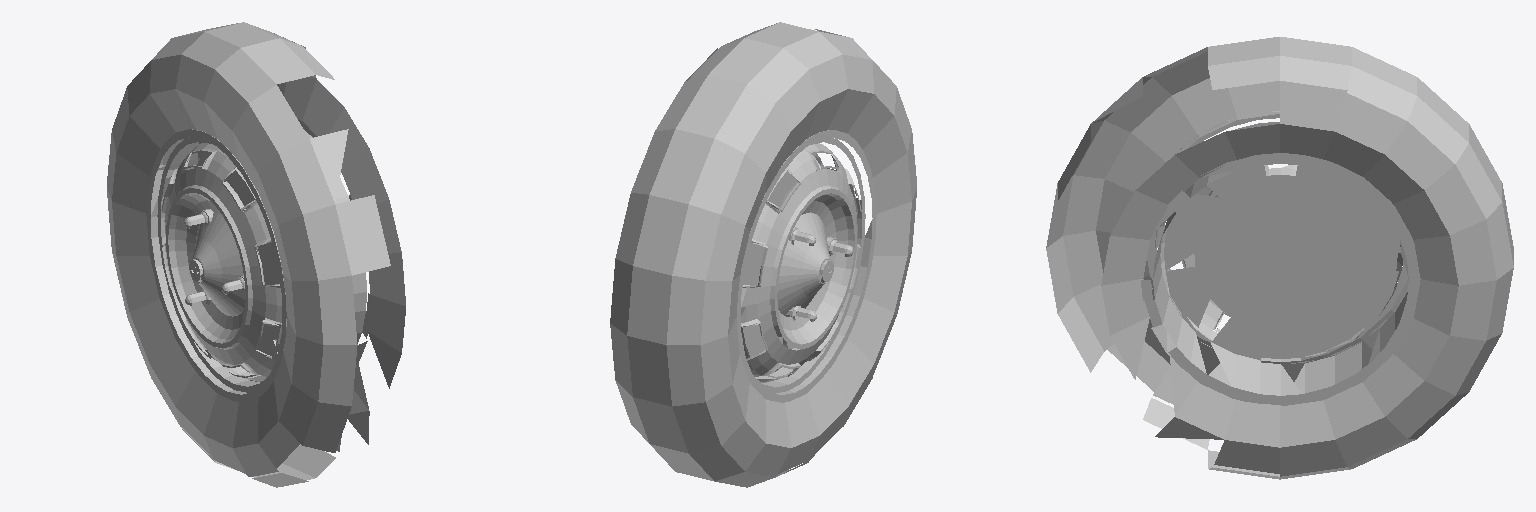
File: Llanta_R.obj
3 renders of one model, left to right at view 1: azimuth 30°, elevation 25°; view 2: azimuth 150°, elevation 25°; view 3: azimuth 270°, elevation 25°, orthographic.
Parts seen in each view (by area): view 1: Renault_12TL_toros_body.002_toros_body.002; view 2: Renault_12TL_toros_body.002_toros_body.002; view 3: Renault_12TL_toros_body.002_toros_body.002.
Boxes of the visible parts, x1,y1,x2,y2 form: Renault_12TL_toros_body.002_toros_body.002: [107, 22, 405, 487]; Renault_12TL_toros_body.002_toros_body.002: [610, 22, 916, 487]; Renault_12TL_toros_body.002_toros_body.002: [1046, 37, 1513, 479].
Size of the model in its own units: 0.2401 by 0.7973 by 0.7973.